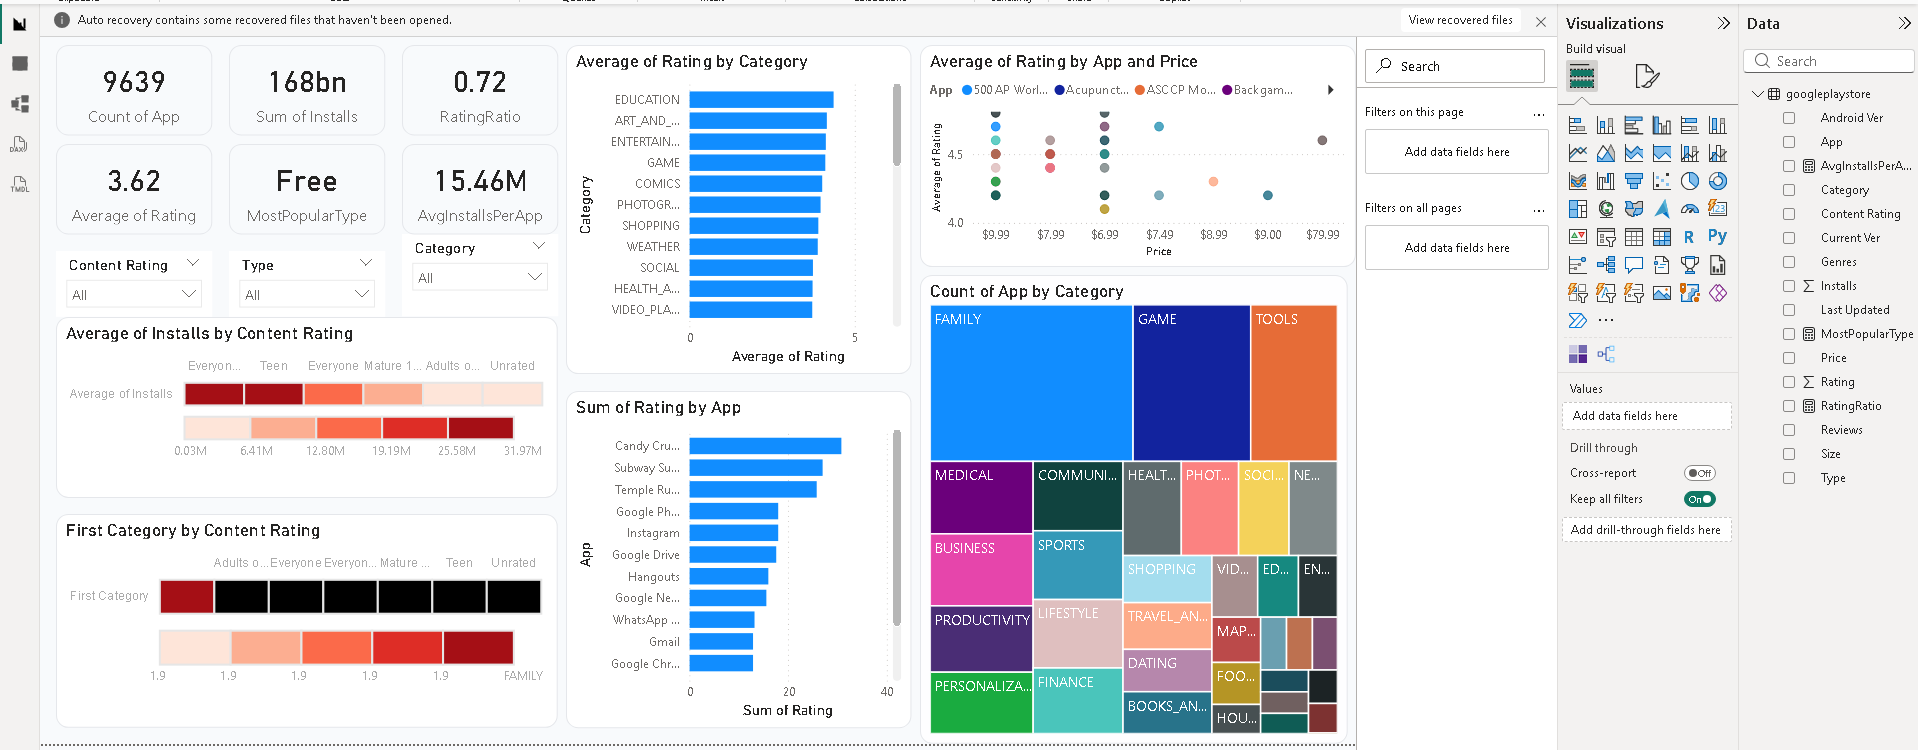

Layout of this report page (visuals, bound fields, positions):
{"tool":"powerbi","page":{"name":"Page 1","canvas":[1280,720],"ordinal":0},"visuals":[{"type":"card","fields":{"Values":["Count(googleplaystore.App)"]},"box":[16,40,152,88],"z":0},{"type":"card","fields":{"Values":["Sum(googleplaystore.Installs)"]},"box":[184,40,152,88],"z":1000},{"type":"card","fields":{"Values":["Avg(googleplaystore.Rating)"]},"box":[16,136,152,88],"z":2000},{"type":"barChart","fields":{"Category":["googleplaystore.App"],"Y":["Sum(googleplaystore.Rating)"]},"box":[512,376,336,328],"z":3000},{"type":"treemap","fields":{"Group":["googleplaystore.Category"],"Values":["CountNonNull(googleplaystore.App)"]},"box":[856,264,416,456],"z":4000},{"type":"barChart","fields":{"Category":["googleplaystore.Category"],"Y":["Avg(googleplaystore.Rating)"]},"box":[512,40,336,320],"z":5000},{"type":"slicer","fields":{"Values":["googleplaystore.Content Rating"]},"box":[16,240,152,64],"z":6000},{"type":"scatterChart","fields":{"Series":["googleplaystore.App"],"Y":["Avg(googleplaystore.Rating)"],"X":["googleplaystore.Price"]},"box":[856,40,424,216],"z":7000},{"type":"card","fields":{"Values":["googleplaystore.MostPopularType"]},"box":[184,136,152,88],"z":8000},{"type":"slicer","fields":{"Values":["googleplaystore.Type"]},"box":[184,240,152,64],"z":9000},{"type":"slicer","fields":{"Values":["googleplaystore.Category"]},"box":[352,224,152,80],"z":10000},{"type":"card","fields":{"Values":["googleplaystore.AvgInstallsPerApp"]},"box":[352,136,152,88],"z":11000},{"type":"card","fields":{"Values":["googleplaystore.RatingRatio"]},"box":[352,40,152,88],"z":12000},{"type":"TableHeatMap1443716069308","fields":{"Category":["googleplaystore.Content Rating"],"Y":["Min(googleplaystore.Category)"]},"box":[16,496,488,208],"z":13000},{"type":"TableHeatMap1443716069308","fields":{"Y":["Avg(googleplaystore.Installs)"],"Category":["googleplaystore.Content Rating"]},"box":[16,304,488,176],"z":14000}]}

Visuals, with their boxes on the page's 1280x720 design canvas (x1, y1, x2, y2). These are canvas units, not pixel positions in the 1918x750 screenshot, which may show the page scaled, cropped or inside an application window:
card - Count(googleplaystore.App): l=16, t=40, r=168, b=128
card - Sum(googleplaystore.Installs): l=184, t=40, r=336, b=128
card - Avg(googleplaystore.Rating): l=16, t=136, r=168, b=224
barChart - googleplaystore.App x Sum(googleplaystore.Rating): l=512, t=376, r=848, b=704
treemap - googleplaystore.Category x CountNonNull(googleplaystore.App): l=856, t=264, r=1272, b=720
barChart - googleplaystore.Category x Avg(googleplaystore.Rating): l=512, t=40, r=848, b=360
slicer - googleplaystore.Content Rating: l=16, t=240, r=168, b=304
scatterChart - googleplaystore.App x Avg(googleplaystore.Rating): l=856, t=40, r=1280, b=256
card - googleplaystore.MostPopularType: l=184, t=136, r=336, b=224
slicer - googleplaystore.Type: l=184, t=240, r=336, b=304
slicer - googleplaystore.Category: l=352, t=224, r=504, b=304
card - googleplaystore.AvgInstallsPerApp: l=352, t=136, r=504, b=224
card - googleplaystore.RatingRatio: l=352, t=40, r=504, b=128
TableHeatMap1443716069308 - googleplaystore.Content Rating x Min(googleplaystore.Category): l=16, t=496, r=504, b=704
TableHeatMap1443716069308 - Avg(googleplaystore.Installs) x googleplaystore.Content Rating: l=16, t=304, r=504, b=480
